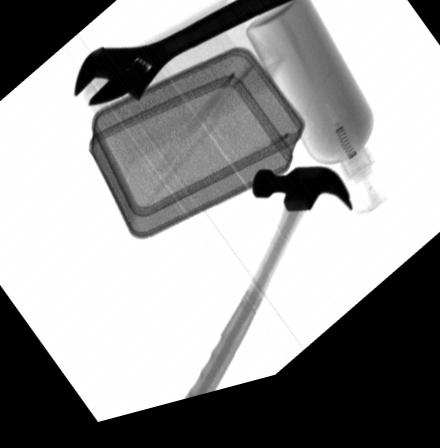Hammer: (183, 181, 350, 409)
Wrench: (73, 0, 315, 109)
